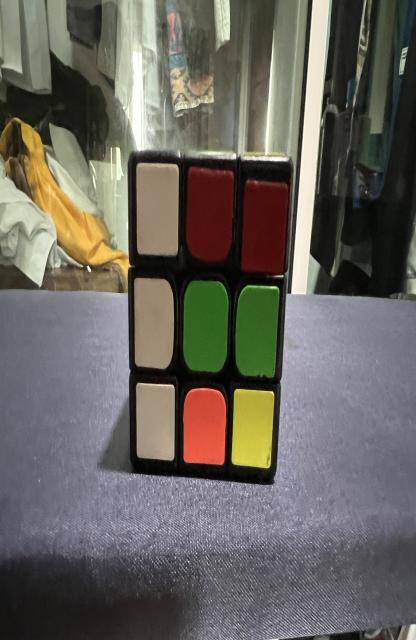Green: (236, 285, 280, 378), (184, 280, 228, 372)
Orange: (184, 388, 226, 465)
Red: (186, 167, 234, 262), (241, 180, 288, 275)
White: (136, 163, 179, 257), (134, 278, 174, 368), (136, 383, 175, 460)
Yellow: (232, 388, 275, 468)
